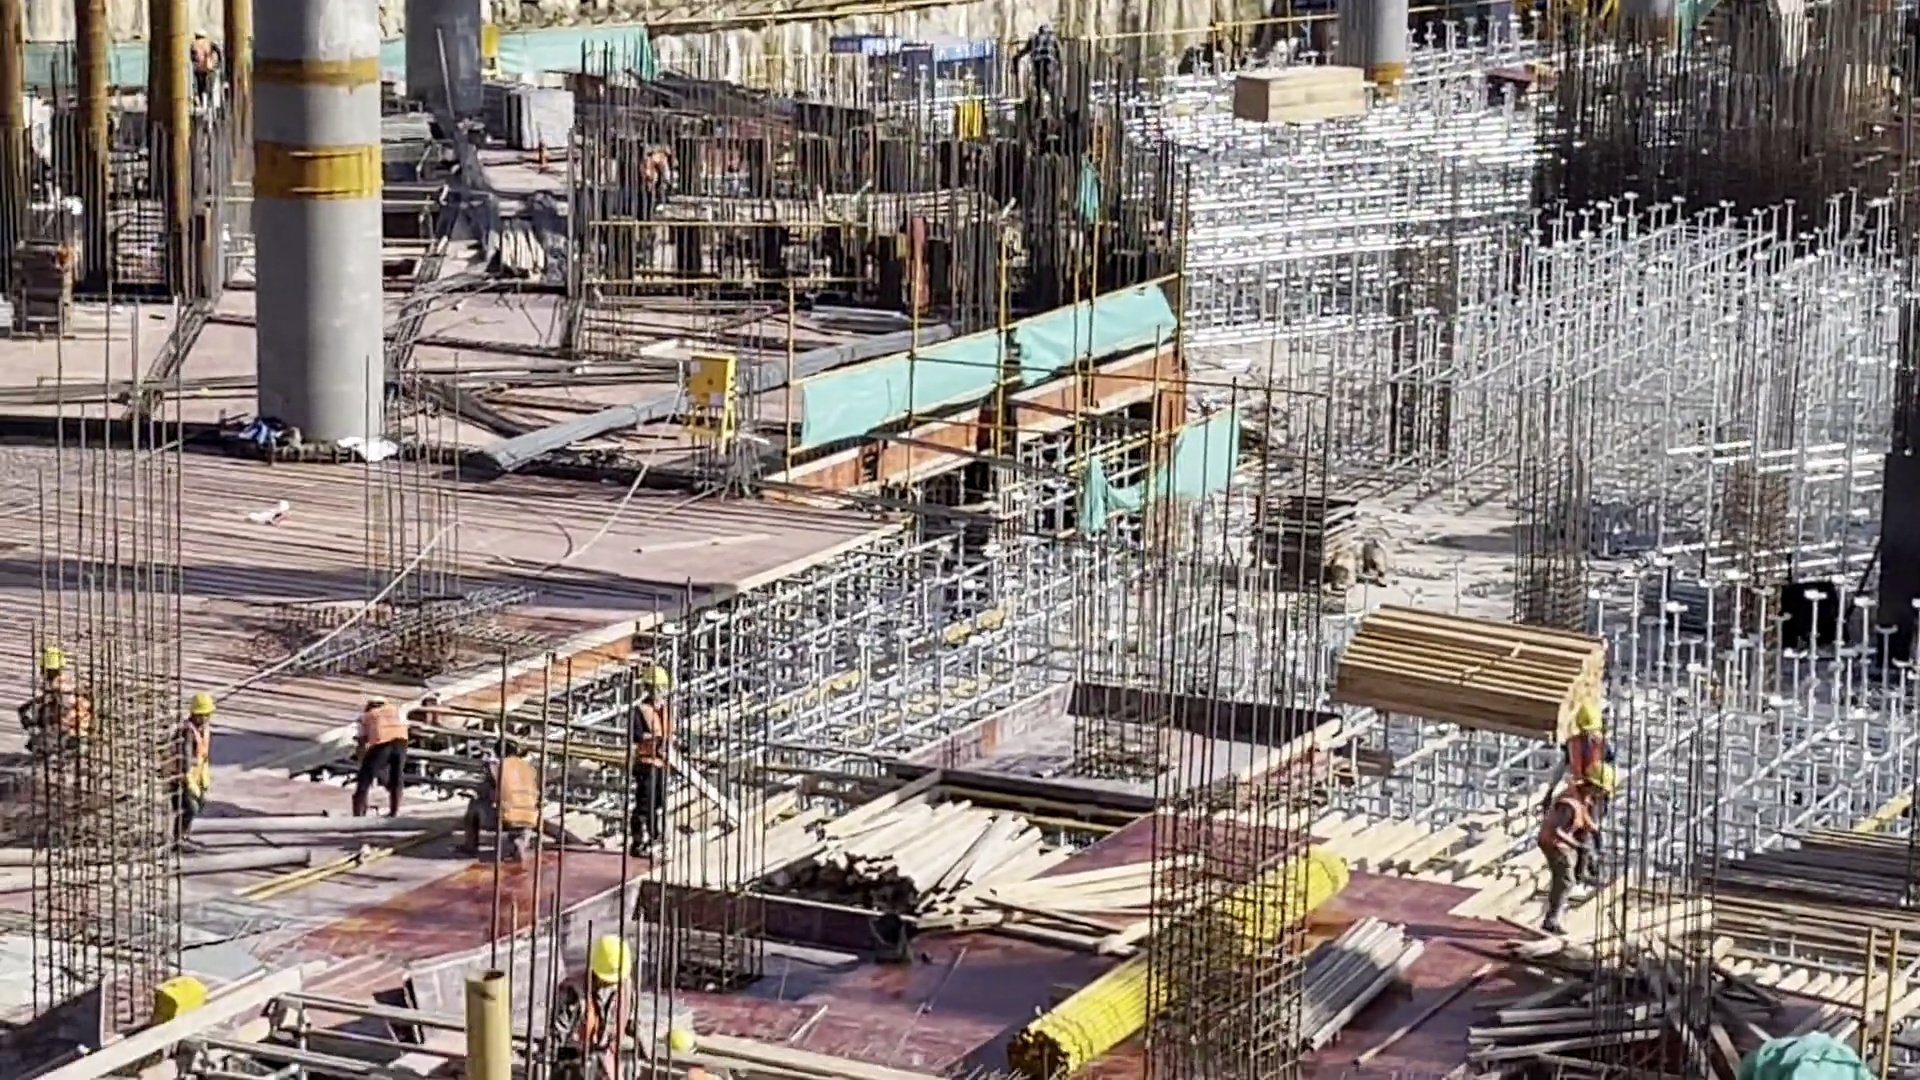helmet: (578, 931, 627, 979), (31, 639, 82, 675), (1572, 697, 1603, 743), (488, 727, 524, 755), (1583, 754, 1614, 783), (626, 661, 669, 682), (177, 692, 216, 714), (361, 686, 392, 708)
person: (526, 921, 657, 1073), (155, 687, 224, 854), (625, 657, 675, 859), (1534, 783, 1594, 934), (347, 673, 409, 818), (477, 728, 538, 863), (29, 646, 88, 776), (1552, 704, 1617, 791)
vest: (555, 978, 634, 1048), (487, 755, 539, 823), (1538, 794, 1585, 855), (635, 701, 676, 770), (179, 720, 214, 788), (358, 712, 403, 755)
